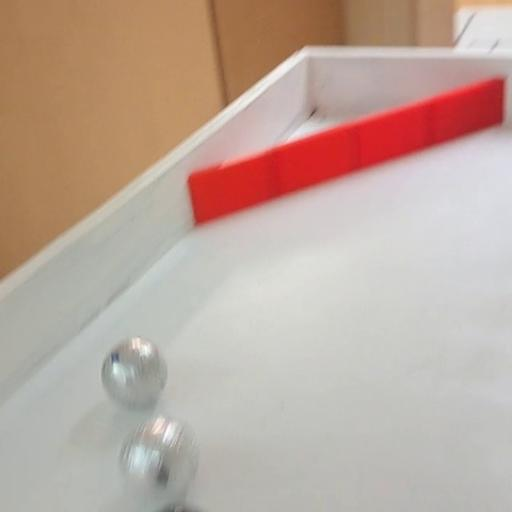alive: (118, 414, 202, 508), (98, 336, 169, 410)
